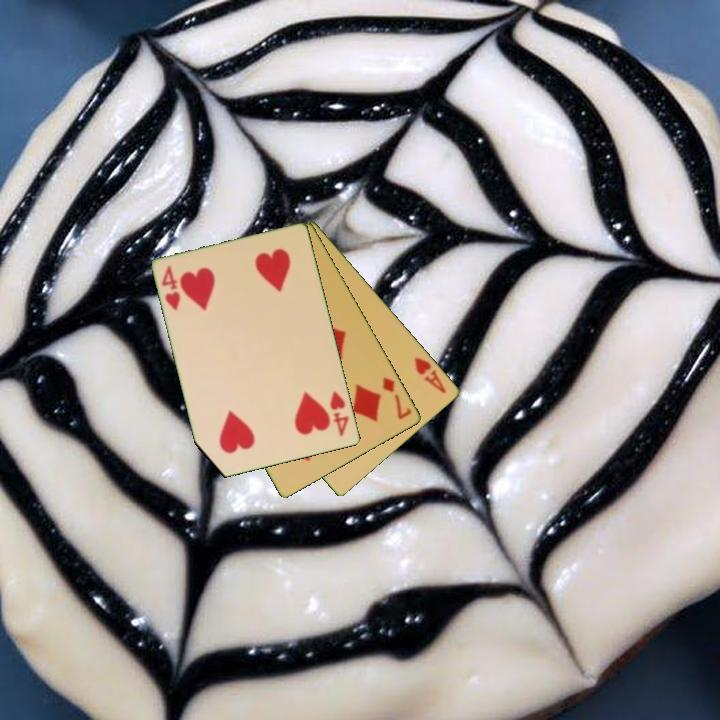4h: (158, 262, 184, 314), (327, 388, 352, 439)
7d: (379, 373, 415, 423)
Ah: (411, 353, 450, 396)
